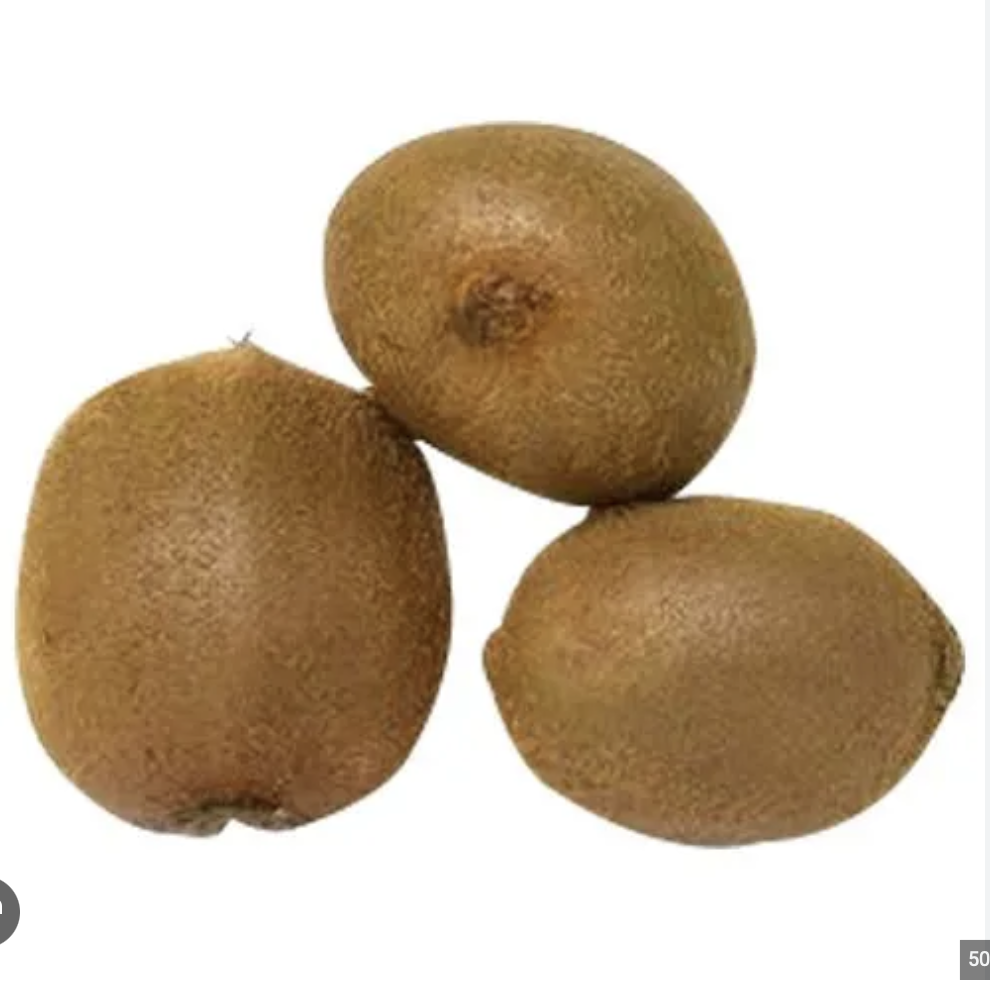kiwi: (0, 304, 473, 884), (290, 90, 803, 541), (457, 497, 963, 893)
